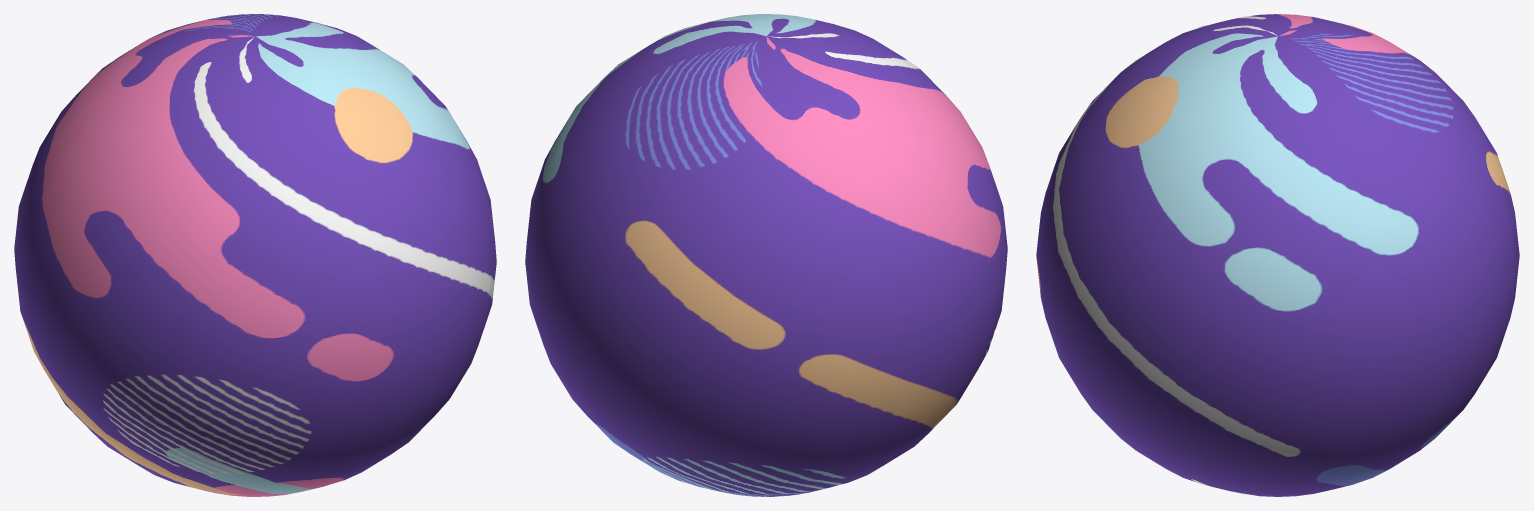
3 views of the same model, side by side, from view 1: azimuth 30°, elevation 25°; view 2: azimuth 150°, elevation 25°; view 3: azimuth 270°, elevation 25° (orthographic).
Visible parts, largest first — view 1: Sphere.001; view 2: Sphere.001; view 3: Sphere.001.
Boxes of the visible parts, x1=… form: Sphere.001: x1=14, y1=14, x2=496, y2=496; Sphere.001: x1=525, y1=14, x2=1007, y2=496; Sphere.001: x1=1036, y1=14, x2=1519, y2=496.
Size of the model in its own units: 2 by 2 by 2.
Materials: 1 (1 with a texture image).
